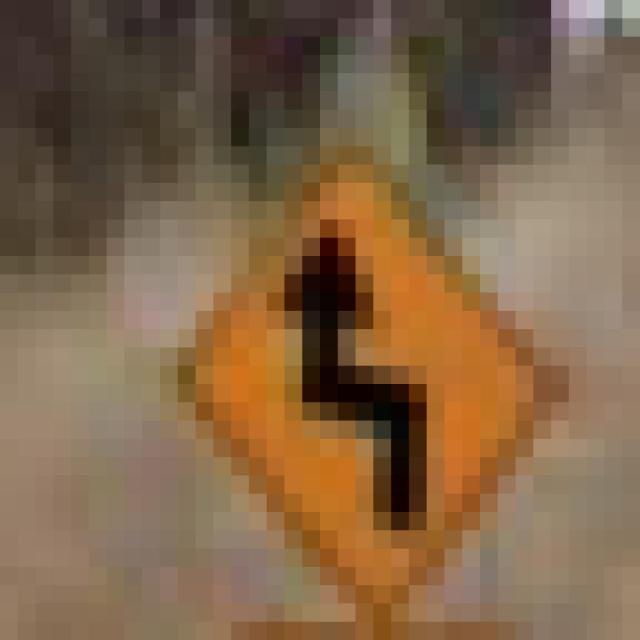Tikungan Ganda Pertama Ke Kiri: (125, 91, 551, 622)
